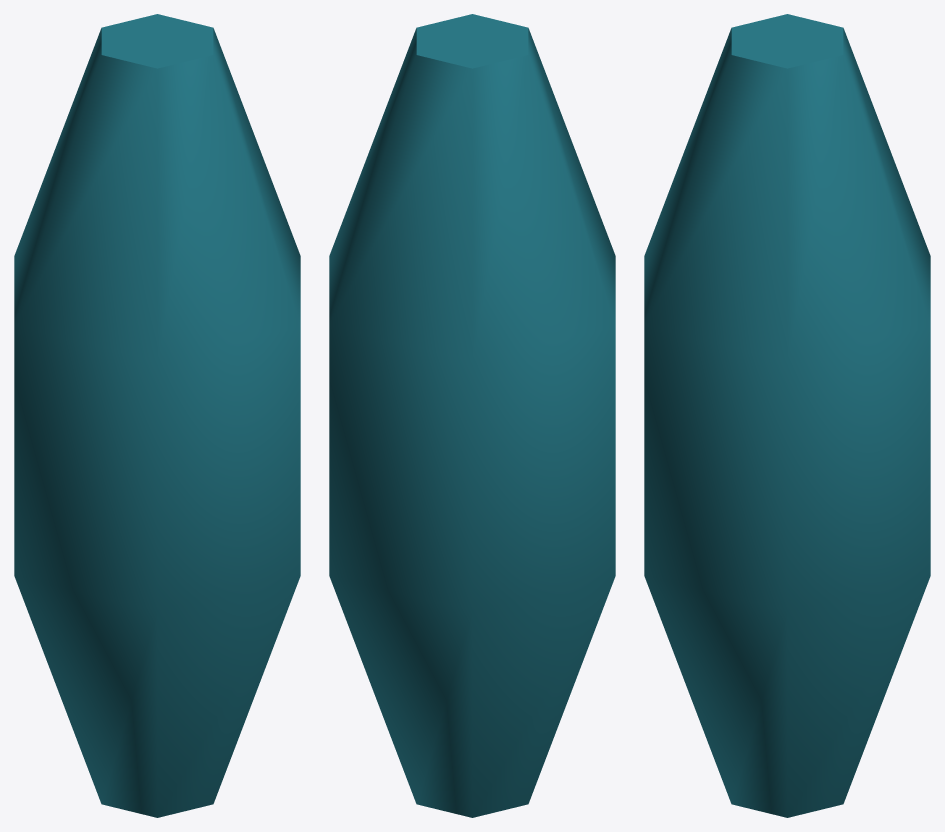
File: gem.FBX
3 views of the same model, side by side, from view 1: azimuth 30°, elevation 25°; view 2: azimuth 150°, elevation 25°; view 3: azimuth 270°, elevation 25° (orthographic).
Parts seen in each view (by area): view 1: gem; view 2: gem; view 3: gem.
Part boxes in pixels (x1,y1,x2,y2): gem: (14,14,300,817); gem: (329,14,615,817); gem: (644,14,930,817).
Bounding box in the file's own units: 0.2 × 0.5 × 0.1732.
